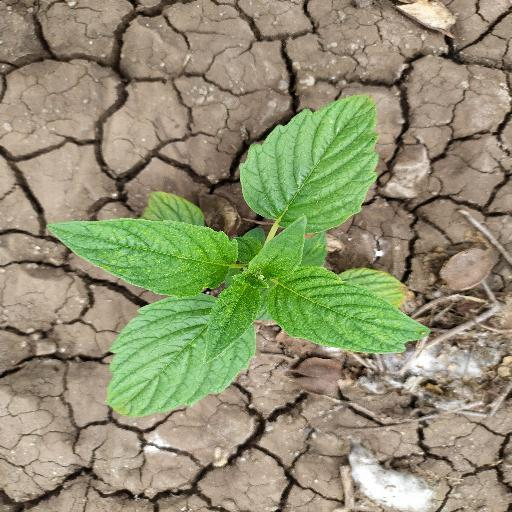crop: (44, 90, 431, 417)
